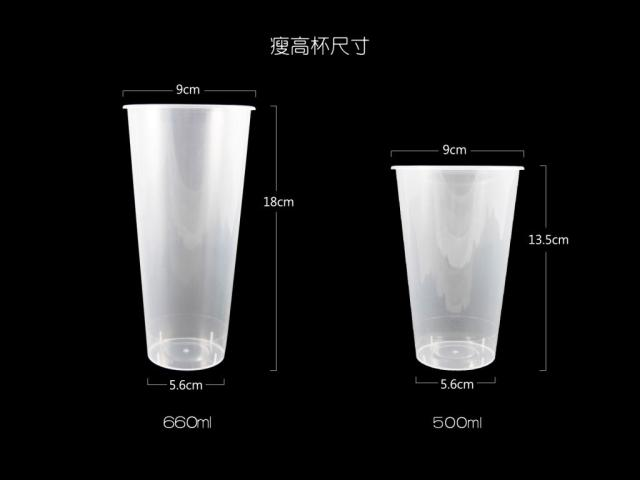cup: (126, 105, 254, 369), (392, 166, 522, 369)
